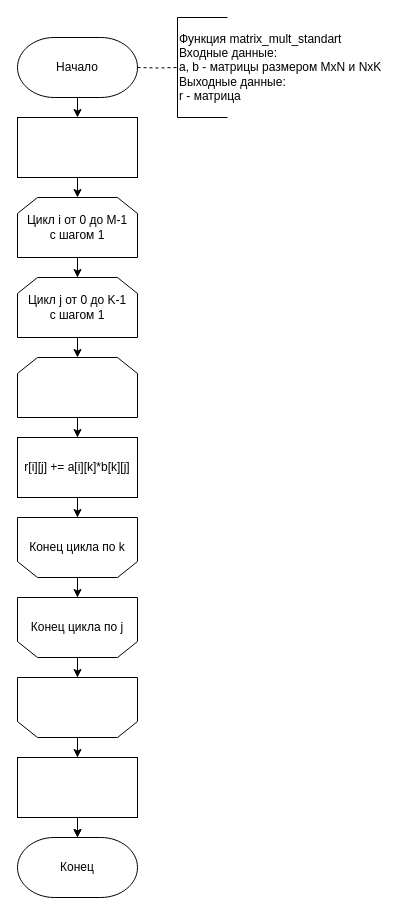
The diagram is 399 pixels wide and 915 high, and some of its shapes have lost their labels. The centre of each missing label's shape, as x and y in pixels:
"Вернуть r" belongs at (x=77, y=787).
"Конец цикла по i" belongs at (x=77, y=707).
"создание матрицы r размером MxK" belongs at (x=77, y=147).
"Цикл k от 0 до N-1 c шагом 1" belongs at (x=77, y=387).
